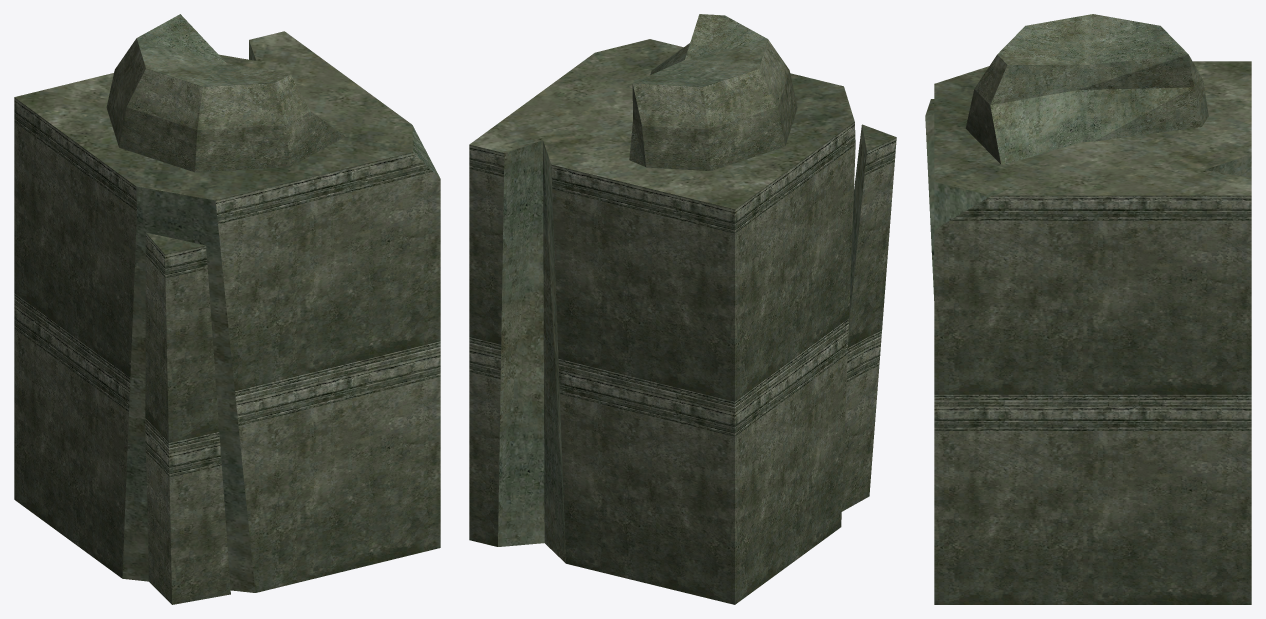
The model's file is thm_dant_jedi_temple_pillar_base_l0.fbx.
The picture shows the model from 3 angles, left to right: view 1: azimuth 30°, elevation 25°; view 2: azimuth 150°, elevation 25°; view 3: azimuth 270°, elevation 25°; orthographic projection. The views are drawn at different scales.
Visible parts, largest first — view 1: mesh_node; view 2: mesh_node; view 3: mesh_node.
Part boxes in pixels (x1=…): mesh_node: x1=14, y1=14, x2=440, y2=604; mesh_node: x1=469, y1=14, x2=896, y2=604; mesh_node: x1=925, y1=14, x2=1251, y2=604.
Bounding box in the file's own units: 2.05 × 3.36 × 2.06.
